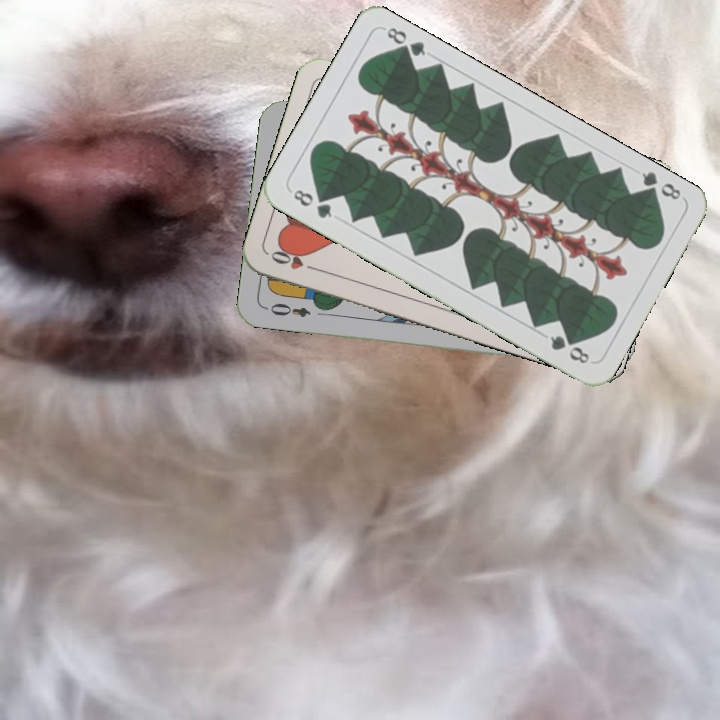EO: (261, 298, 313, 320)
G8: (637, 167, 684, 203), (289, 185, 335, 221)
HO: (267, 244, 324, 274)
